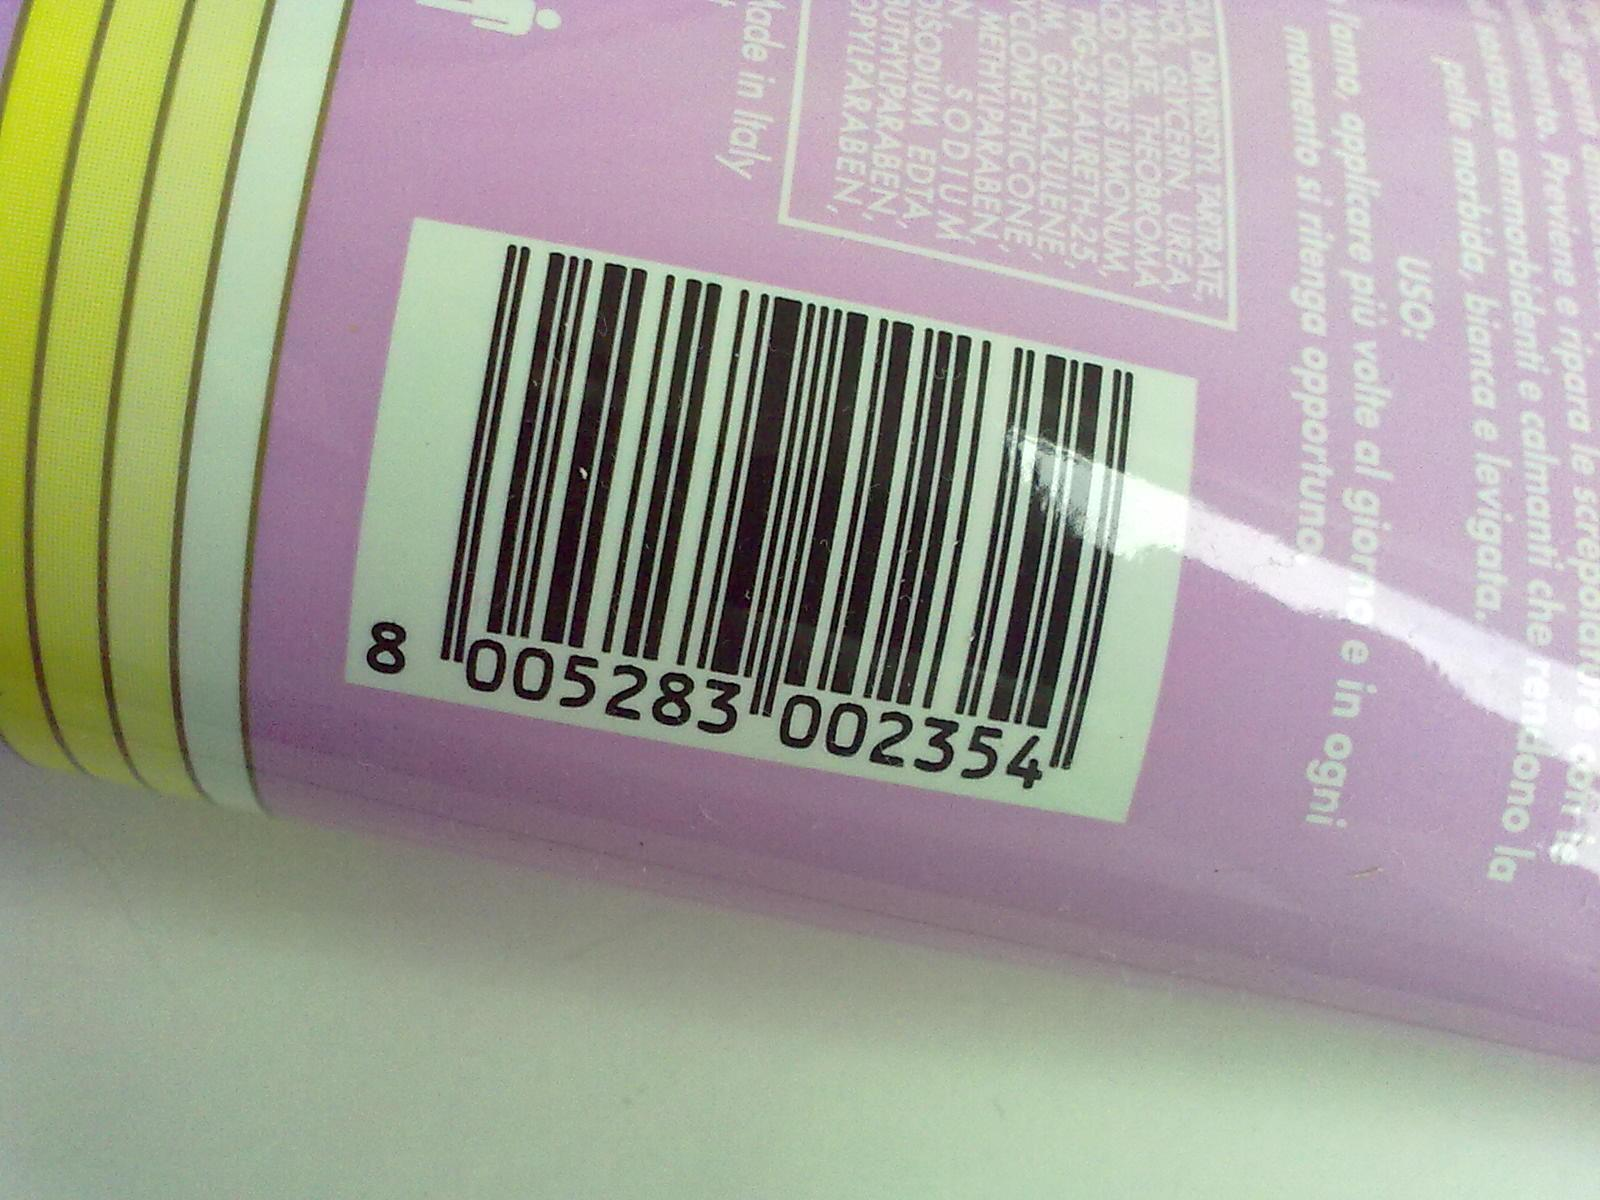barcode: (341, 223, 1199, 831)
